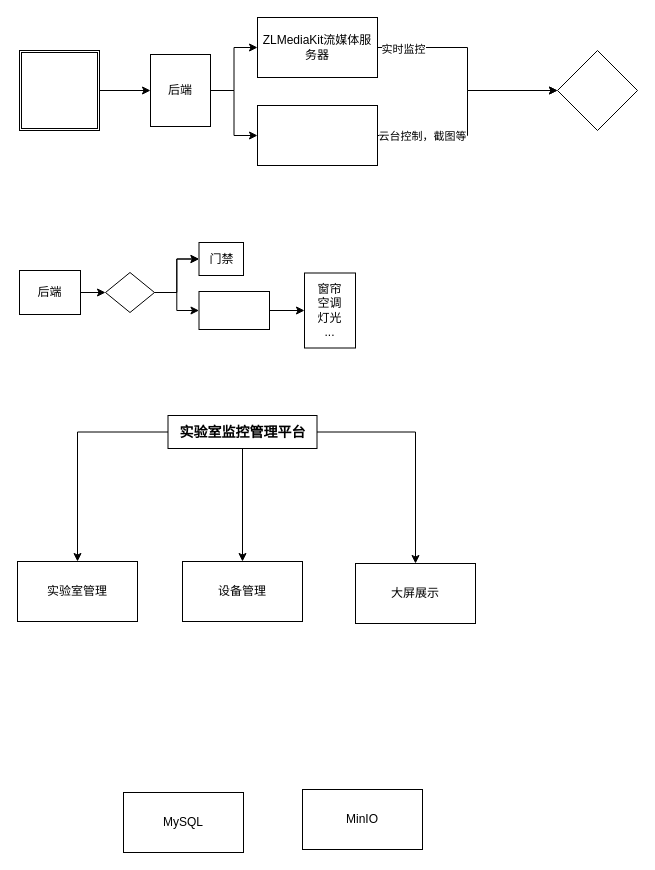
Image size: 655x870. Some labels were removed from this diagram. The box of each missing label's shape, as (x1, y1, x2, y2) in pixels:
MQTT: (104, 272, 154, 312)
Web前端: (18, 50, 100, 130)
中控服务器: (198, 290, 270, 330)
摄像头: (556, 50, 638, 130)
海康威视SDK HTTP API: (256, 104, 378, 166)
